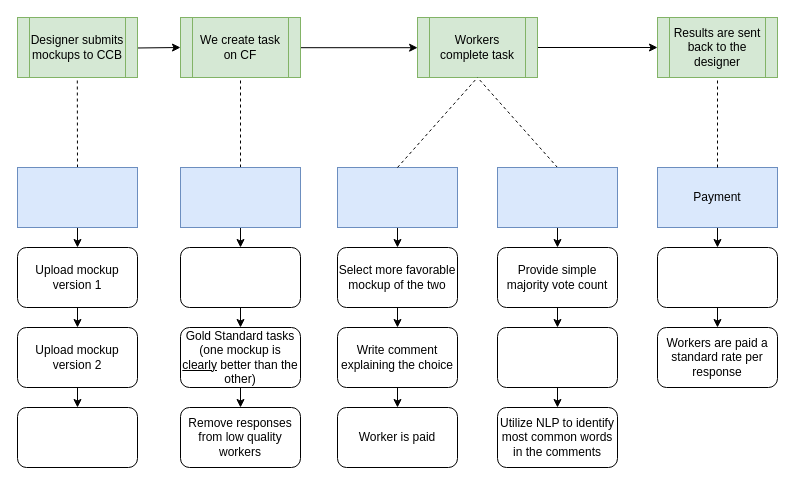
The diagram is 795 pixels wide and 485 high, and some of its shapes have lost their labels. The centre of each missing label's shape, as x and y in pixels:
Aggregation: (557,197)
Calculate average rating for each mockup: (557,357)
Designer is charged based on number of reviews requested: (717,277)
Quality Control: (240,197)
Required comment for explanation of preference: (240,277)
Specify # of reviews requested: (77,437)
Submission Process: (77,197)
Worker Process: (397,197)
